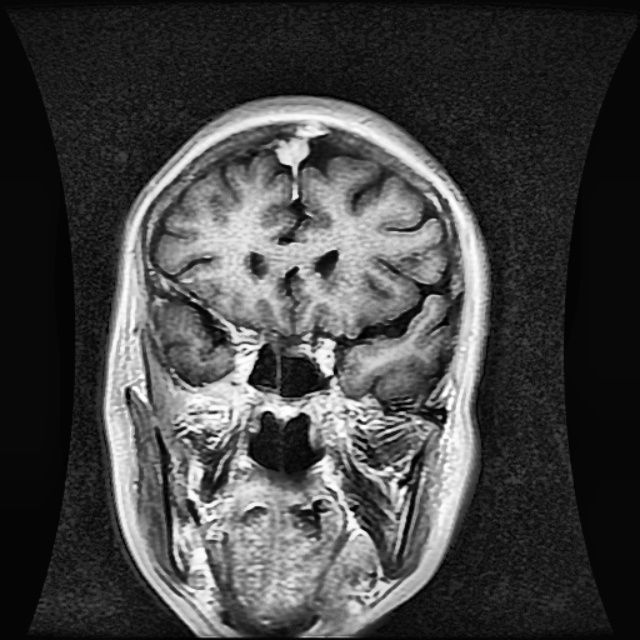Glioma: (275, 138, 310, 164)
